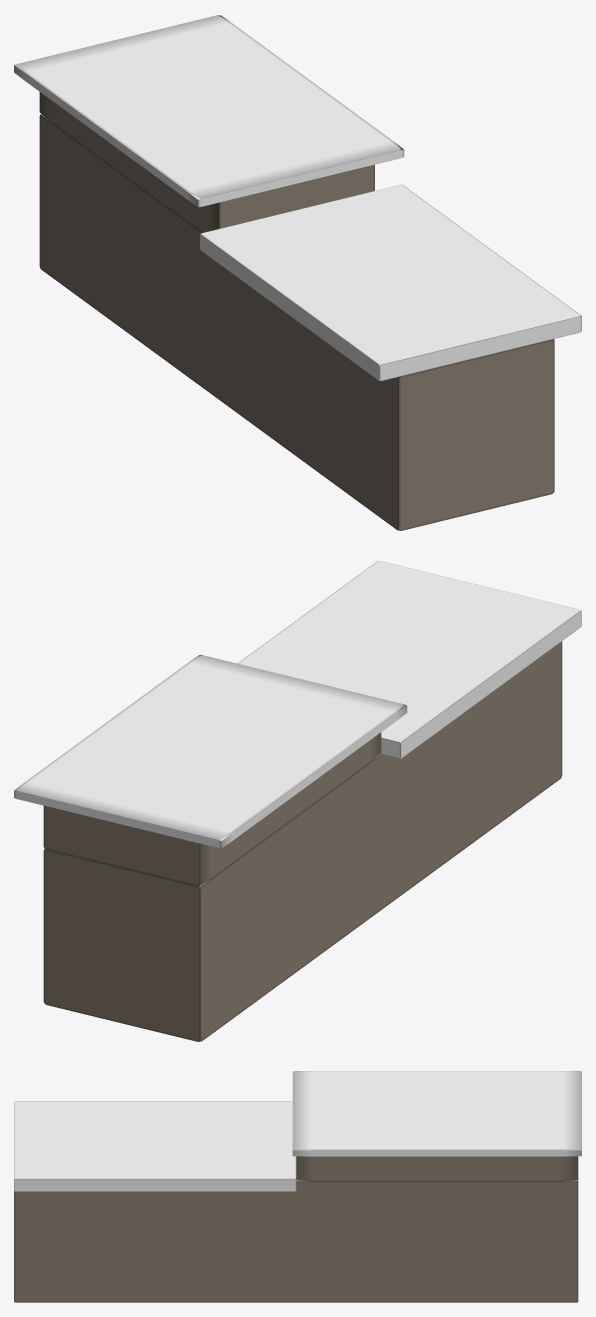
The model's file is Counter.fbx.
The picture shows the model from 3 angles, top to bottom: view 1: azimuth 30°, elevation 25°; view 2: azimuth 150°, elevation 25°; view 3: azimuth 270°, elevation 25°; orthographic projection. The views are drawn at different scales.
Parts seen in each view (by area): view 1: cuboid, cuboid_1, cuboid_3, cuboid_2; view 2: cuboid, cuboid_3, cuboid_1, cuboid_2; view 3: cuboid, cuboid_1, cuboid_3, cuboid_2.
Boxes of the visible parts, box(x1,y1,x2,y2) form: cuboid: box(39, 114, 554, 530); cuboid_1: box(200, 184, 581, 380); cuboid_3: box(14, 15, 404, 207); cuboid_2: box(39, 92, 374, 232); cuboid: box(43, 641, 562, 1041); cuboid_3: box(14, 655, 407, 848); cuboid_1: box(237, 561, 581, 758); cuboid_2: box(43, 732, 381, 885); cuboid: box(14, 1180, 578, 1302); cuboid_1: box(14, 1101, 296, 1191); cuboid_3: box(292, 1071, 581, 1156); cuboid_2: box(296, 1156, 578, 1181).
Size of the model in its own units: 33.12 by 31.88 by 101.
1 material, 1 textured.
